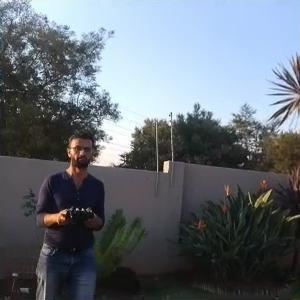follow: (30, 121, 108, 298)
